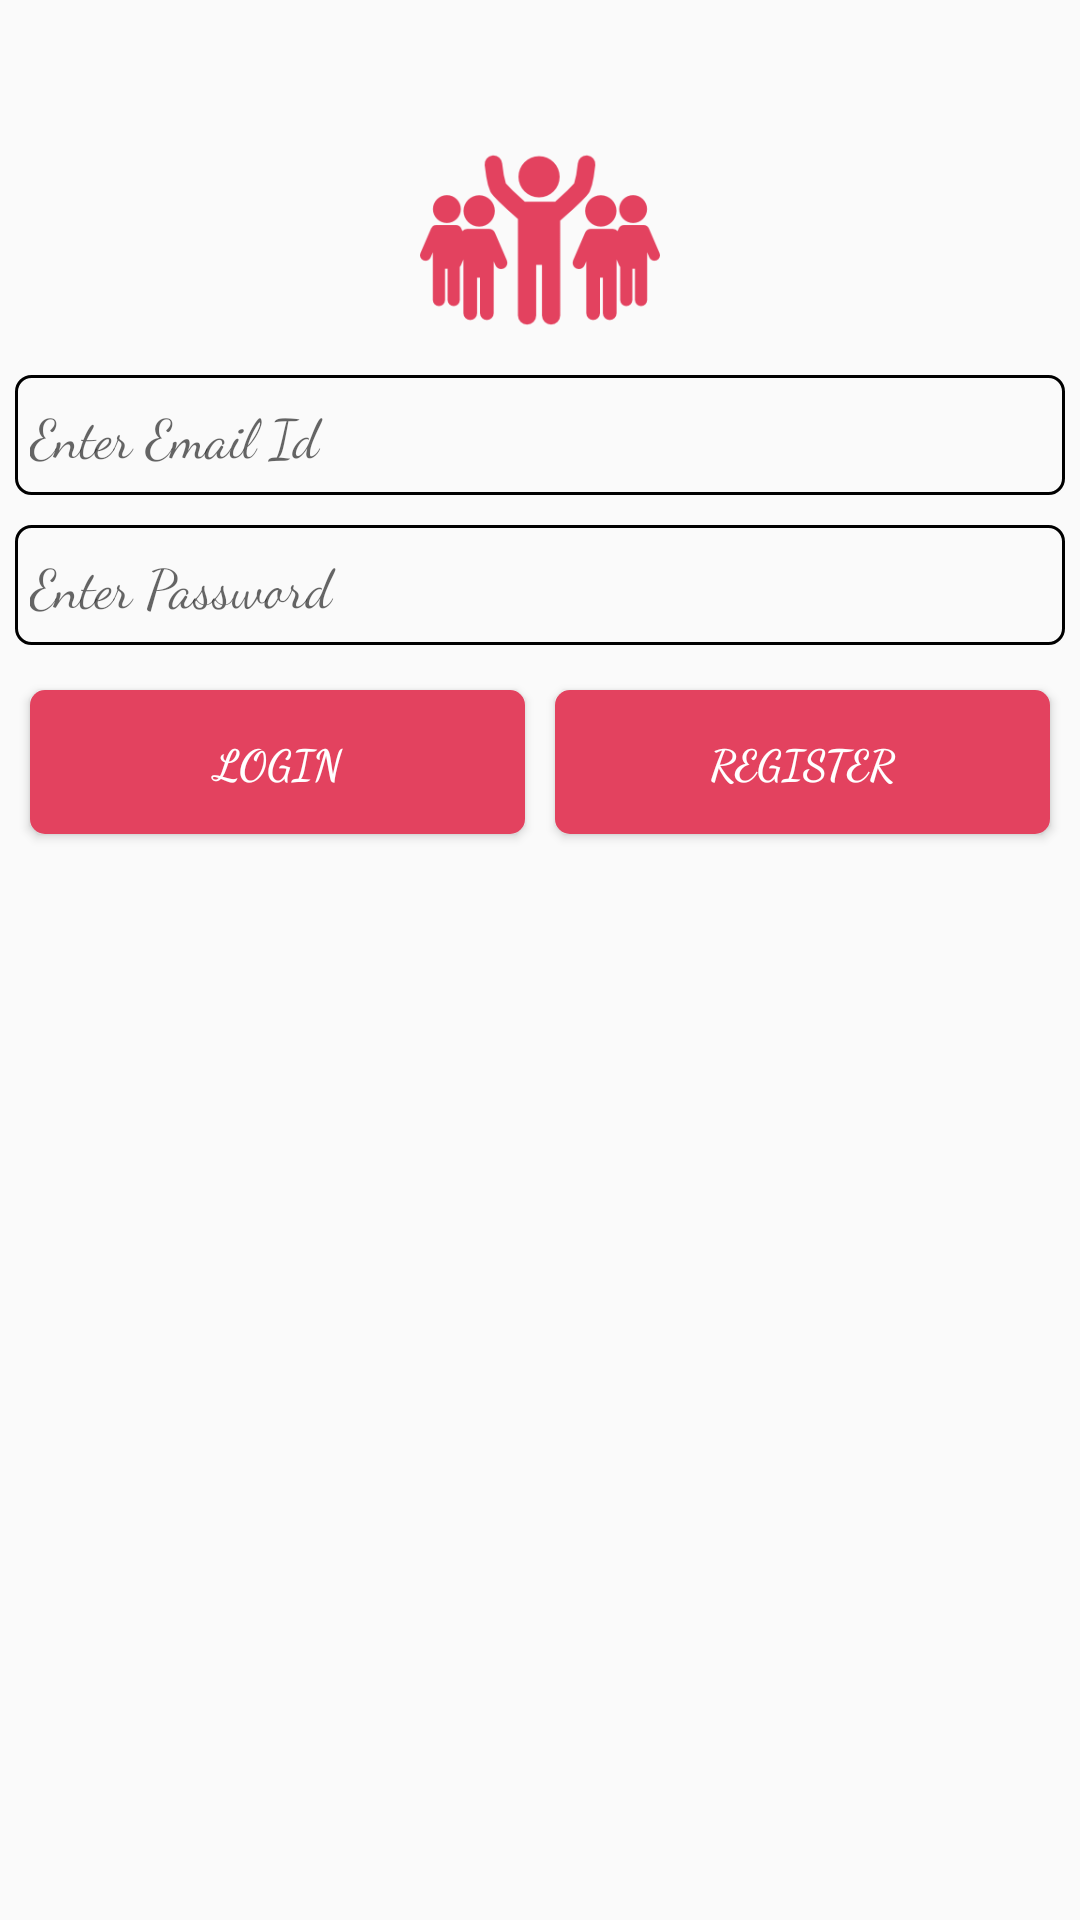

Where to tap for icons on this 1080x1920 app screen, as point (x, y):
leader: point (540, 240)
